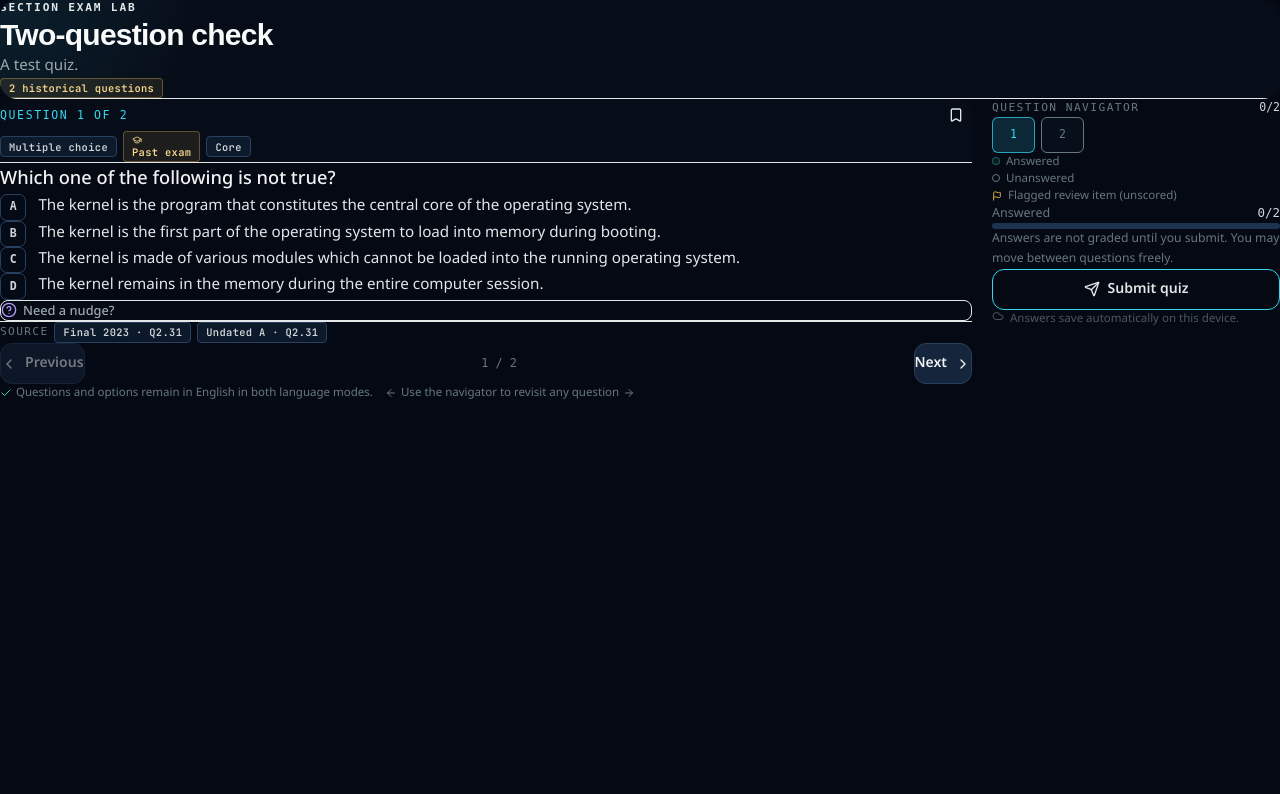
Test: QuizEngine › reports answered incorrect questions separately from blanks
The image size is (1280, 794).
What coordinates should you click on to do the following:
click the radio button labelled "kernel remains in the memory during the entire computer session"
I would click on:
 (272, 284)
Its box is [0,268,544,300].
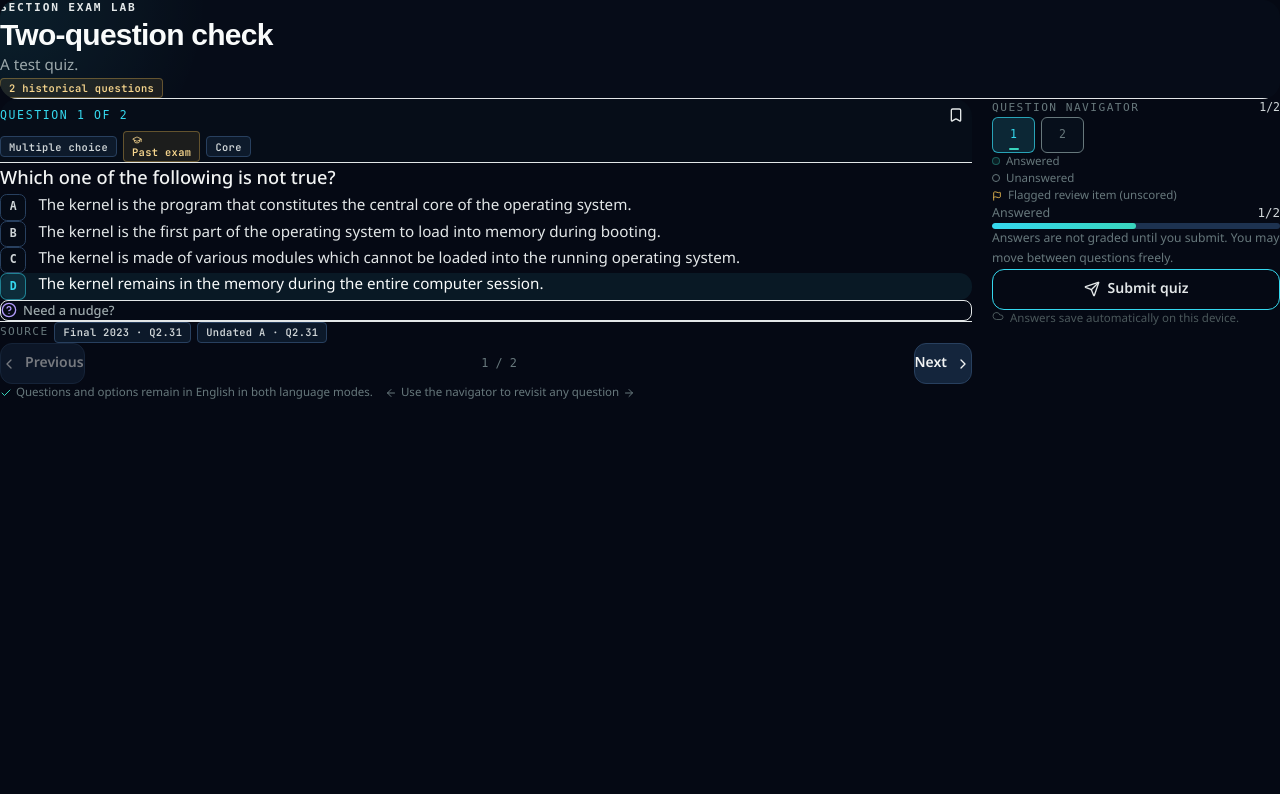
What coordinates should you click on to do the following:
click the button "Next"
I would click on:
 (943, 364)
Its box is [914,343,972,384].
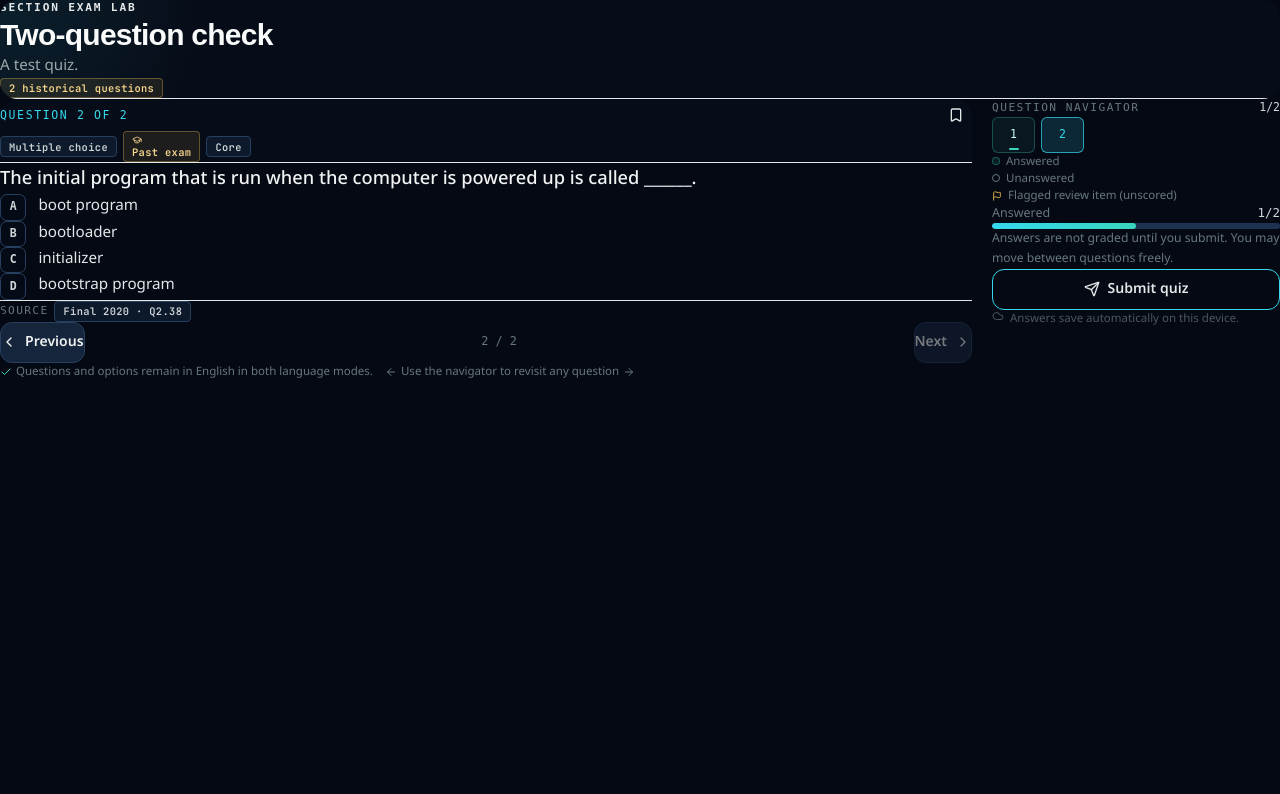
What coordinates should you click on to do the following:
click the radio button labelled "D bootstrap program"
I would click on:
 (87, 284)
Its box is [0,268,175,300].
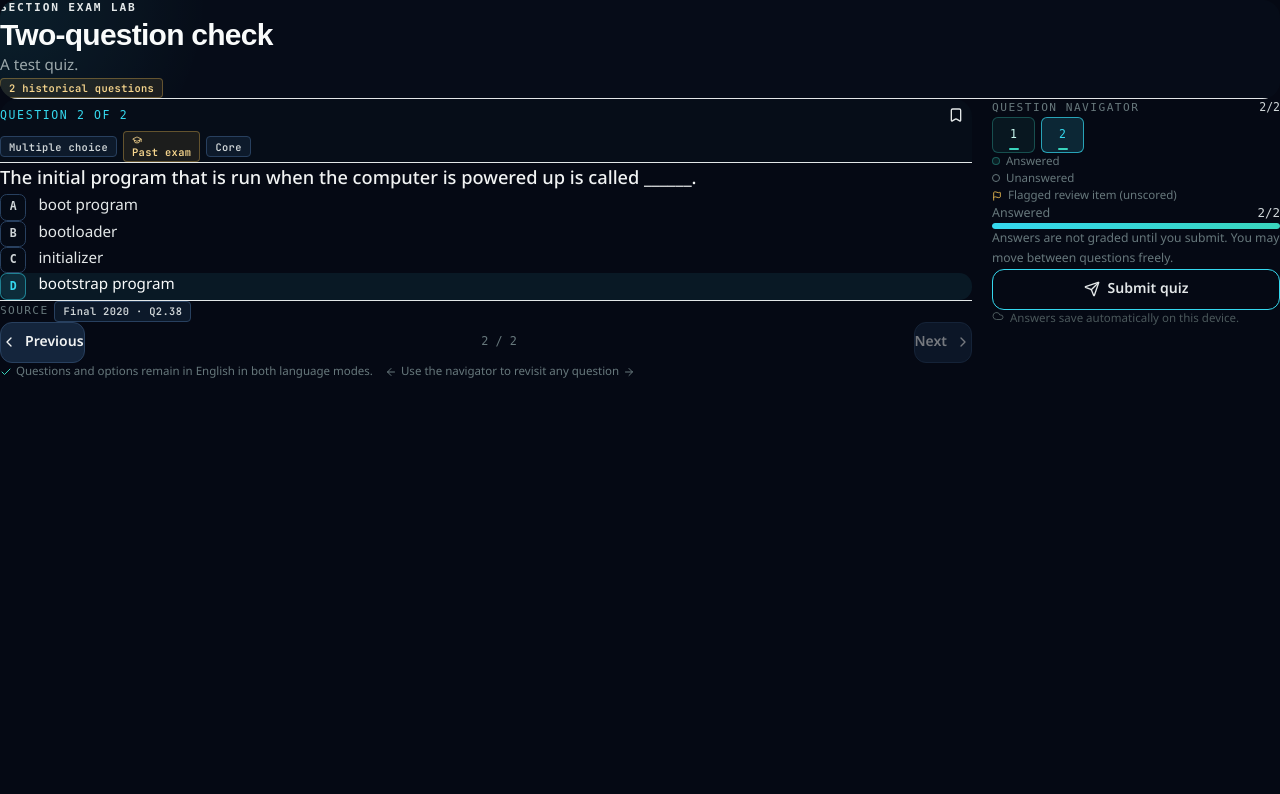
What coordinates should you click on to do the following:
click the button "Submit quiz"
I would click on:
 (1136, 289)
Its box is [992,269,1279,310].
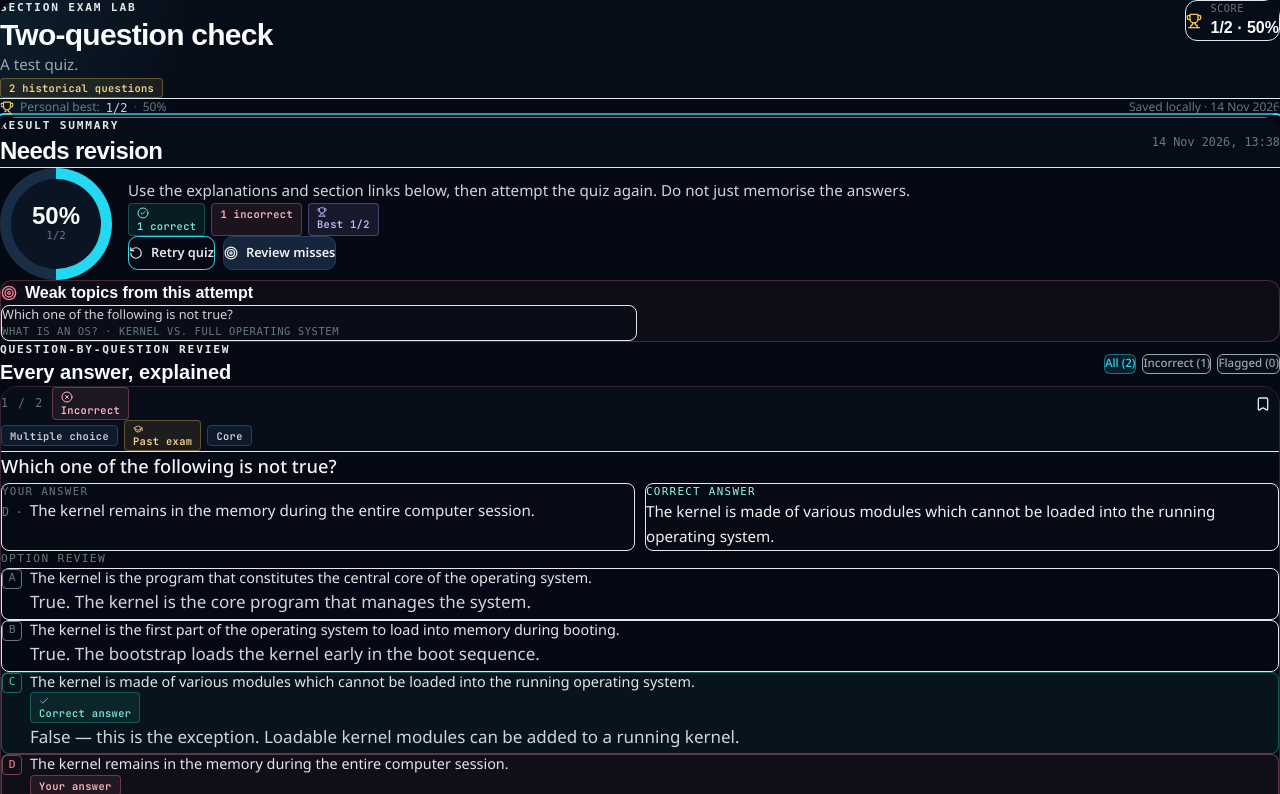
Expected: the heading "Needs revision" is shown, [0,135,162,167]
Expected: the text "1 correct" is shown, [128,203,205,236]
Expected: the text "1 incorrect" is shown, [211,203,302,236]
